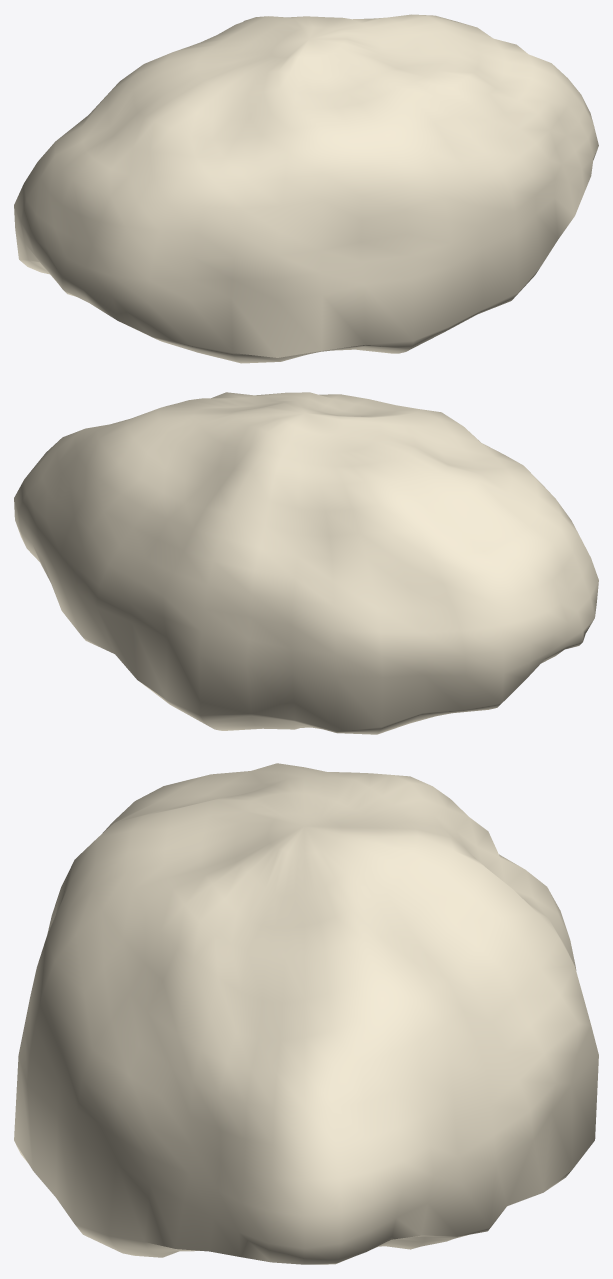
Rendered from cowrie_c2.glb.
3 views of the same model, one above another, from view 1: azimuth 30°, elevation 25°; view 2: azimuth 150°, elevation 25°; view 3: azimuth 270°, elevation 25° (orthographic). The views are drawn at different scales.
Parts seen in each view (by area): view 1: cowrie_c2; view 2: cowrie_c2; view 3: cowrie_c2.
Part boxes in pixels (x1,y1,x2,y2): cowrie_c2: [14, 14, 598, 363]; cowrie_c2: [14, 392, 598, 734]; cowrie_c2: [14, 763, 598, 1264].
Size of the model in its own units: 0.0232 by 0.0105 by 0.0154.
